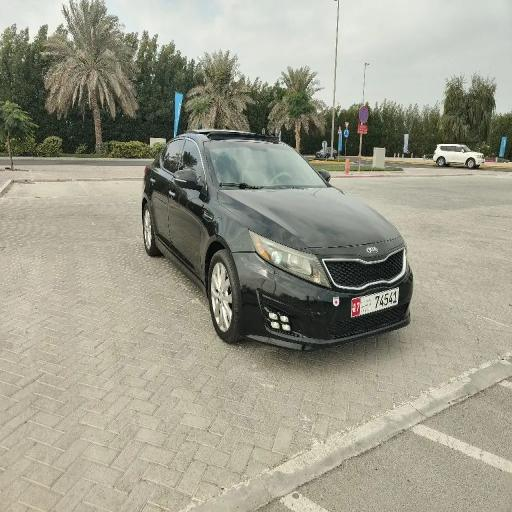license-plates: (351, 287, 399, 318)
